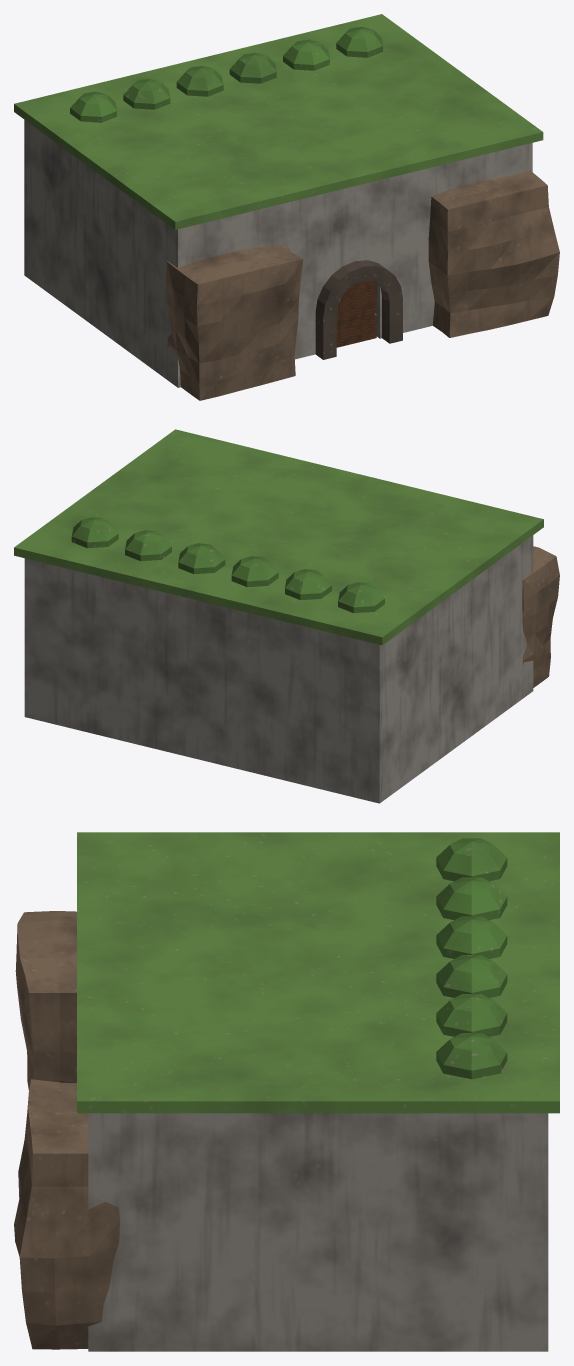
Rendered from Bld_StoneFort.fbx.
The picture shows the model from 3 angles, top to bottom: view 1: azimuth 30°, elevation 25°; view 2: azimuth 150°, elevation 25°; view 3: azimuth 270°, elevation 25°; orthographic projection. The views are drawn at different scales.
Visible parts, largest first — view 1: RoofGarden, Walls_Room, Rock_East, Rock_West, Entrance_Arch, Door_StoneFort; view 2: Walls_Room, RoofGarden, Rock_West; view 3: RoofGarden, Walls_Room, Rock_East, Rock_West.
Boxes of the visible parts, box(x1,y1,x2,y2) form: RoofGarden: box(14, 14, 543, 229); Walls_Room: box(24, 120, 532, 387); Rock_East: box(428, 170, 559, 337); Rock_West: box(166, 243, 303, 400); Entrance_Arch: box(315, 260, 402, 359); Door_StoneFort: box(336, 280, 376, 347); Walls_Room: box(24, 535, 533, 803); RoofGarden: box(14, 429, 543, 645); Rock_West: box(522, 546, 559, 687); RoofGarden: box(77, 832, 559, 1113); Walls_Room: box(88, 1113, 548, 1351); Rock_East: box(14, 1079, 119, 1349); Rock_West: box(15, 911, 76, 1089).
Size of the model in its own units: 16.6 by 8.15 by 14.24.
